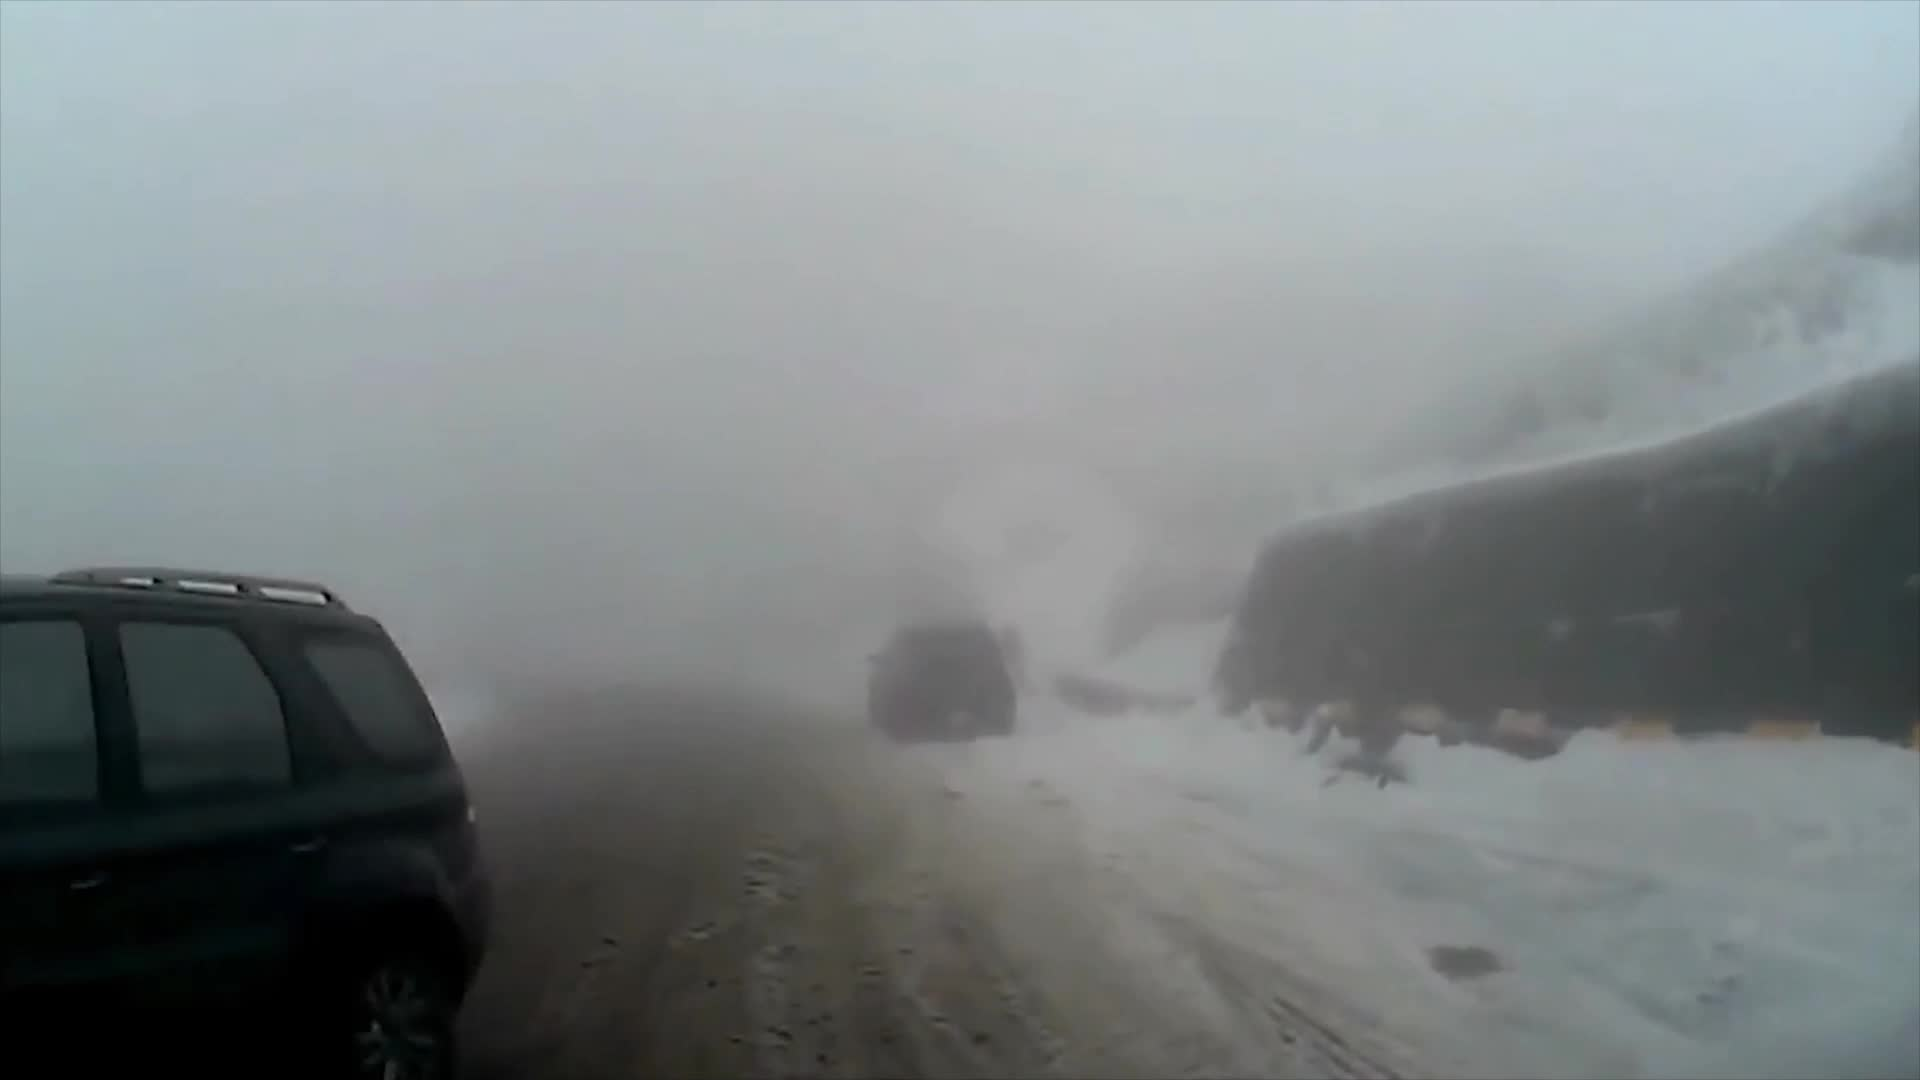vehicle: (0, 563, 495, 1076), (862, 615, 1014, 745)
